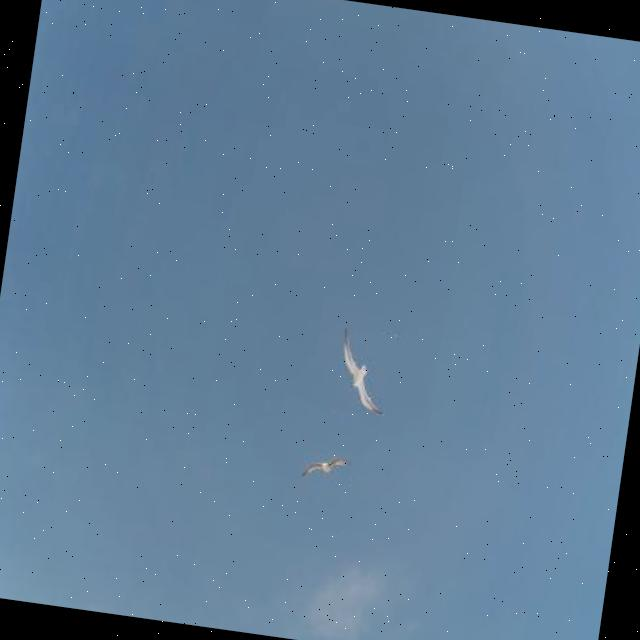bird: (332, 328, 396, 416), (301, 452, 352, 487)
